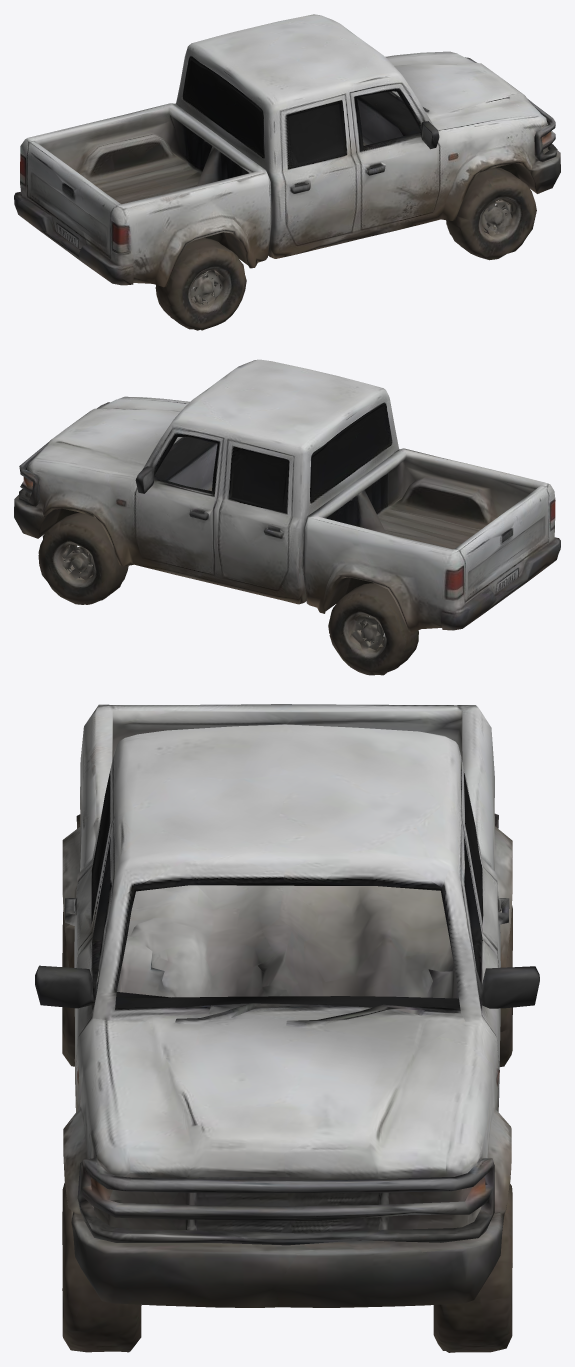
Rendered from truck_pickup.glb.
3 views of the same model, one above another, from view 1: azimuth 30°, elevation 25°; view 2: azimuth 150°, elevation 25°; view 3: azimuth 270°, elevation 25° (orthographic). The views are drawn at different scales.
Parts seen in each view (by area): view 1: tripo_node_23e7fe05-187f-47d9-af89-e2f34fc674f6; view 2: tripo_node_23e7fe05-187f-47d9-af89-e2f34fc674f6; view 3: tripo_node_23e7fe05-187f-47d9-af89-e2f34fc674f6.
Boxes of the visible parts, x1=… form: tripo_node_23e7fe05-187f-47d9-af89-e2f34fc674f6: x1=14, y1=14, x2=560, y2=330; tripo_node_23e7fe05-187f-47d9-af89-e2f34fc674f6: x1=14, y1=359, x2=560, y2=675; tripo_node_23e7fe05-187f-47d9-af89-e2f34fc674f6: x1=35, y1=704, x2=539, y2=1352.
Bounding box in the file's own units: 1 × 0.4279 × 0.4756.
1 material, 1 textured.
